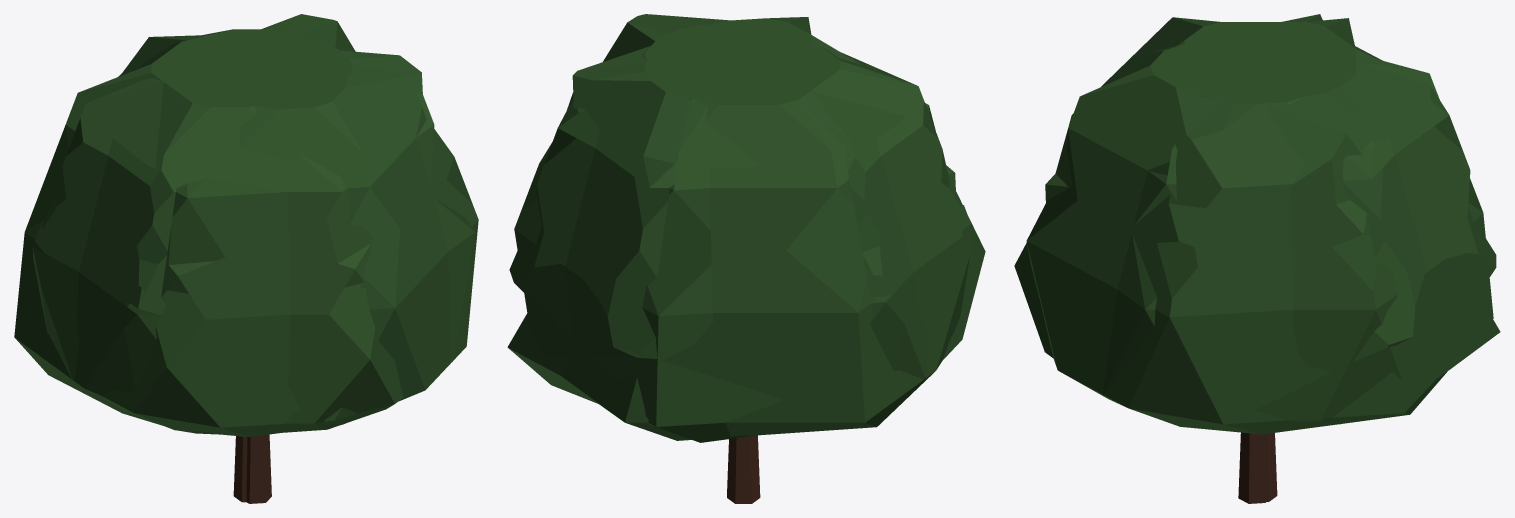
The model's file is Bush.fbx.
The picture shows the model from 3 angles, left to right: view 1: azimuth 30°, elevation 25°; view 2: azimuth 150°, elevation 25°; view 3: azimuth 270°, elevation 25°; orthographic projection. The views are drawn at different scales.
Visible parts, largest first — view 1: Bush; view 2: Bush; view 3: Bush.
Boxes of the visible parts, <box> form: Bush: <box>14,14,478,503</box>; Bush: <box>507,14,985,503</box>; Bush: <box>1014,14,1500,503</box>.
Bounding box in the file's own units: 51.8 × 57.55 × 57.95.
